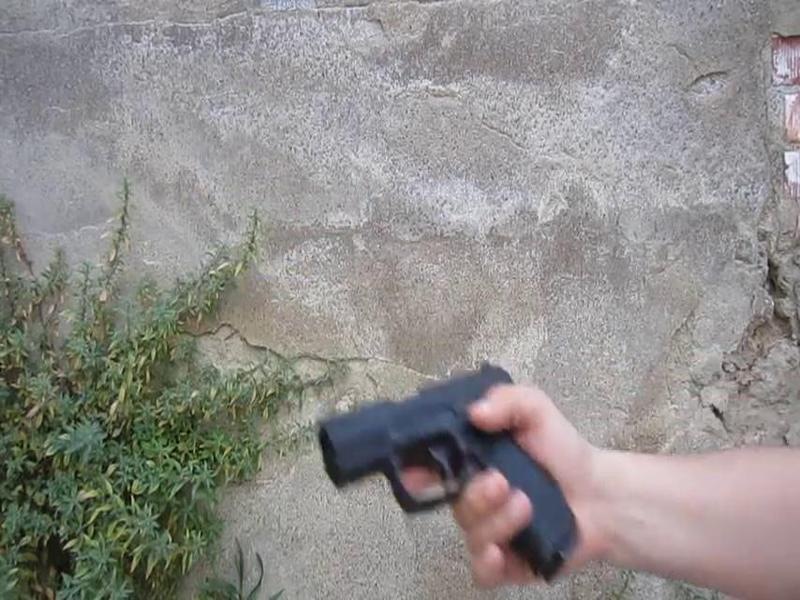Pistola: (297, 343, 601, 594)
